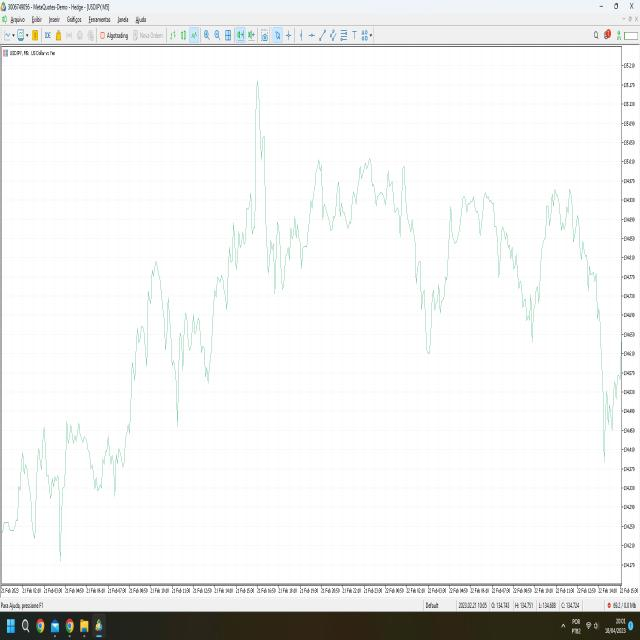bandeira_alta: (205, 267, 231, 397)
bandeira_baixa: (592, 271, 618, 473), (39, 422, 63, 501)
oco: (124, 223, 178, 395)
oco_inv: (392, 240, 472, 370)
